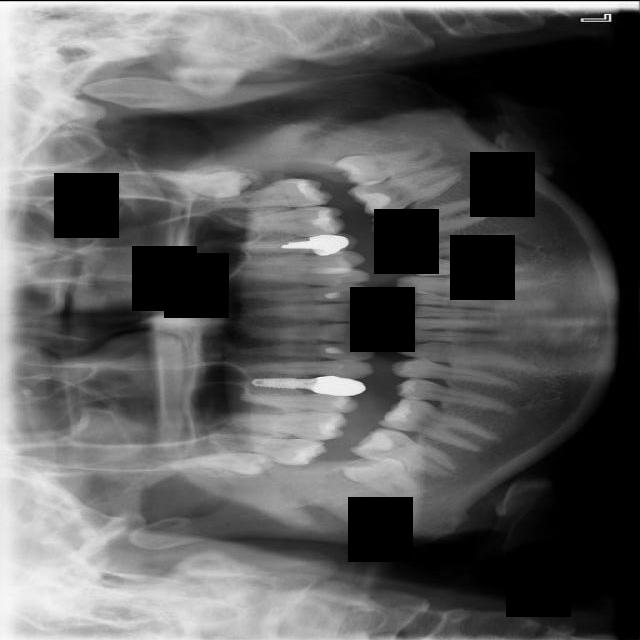3M ESPE Implant: (163, 452, 274, 474)
52: (347, 164, 410, 229), (377, 385, 440, 448), (368, 202, 429, 255), (351, 426, 416, 463), (292, 404, 349, 446), (269, 178, 332, 206), (291, 205, 345, 237), (270, 436, 327, 466), (301, 230, 359, 258), (389, 239, 438, 269), (394, 374, 442, 402), (309, 374, 367, 397), (317, 341, 374, 361), (314, 284, 372, 301), (310, 392, 358, 412), (408, 256, 445, 275)
73: (233, 237, 306, 254), (561, 35, 570, 39)
BioHorizons Implant: (196, 176, 333, 209)
BioLife Implant: (158, 170, 253, 199)
Biomet 3i Implant: (333, 134, 448, 191)
Blue Sky Bio Implant: (346, 162, 467, 222)
Caries: (195, 429, 327, 468)
Implant: (348, 419, 465, 480)
Keystone Dental Implant: (339, 435, 430, 515)
